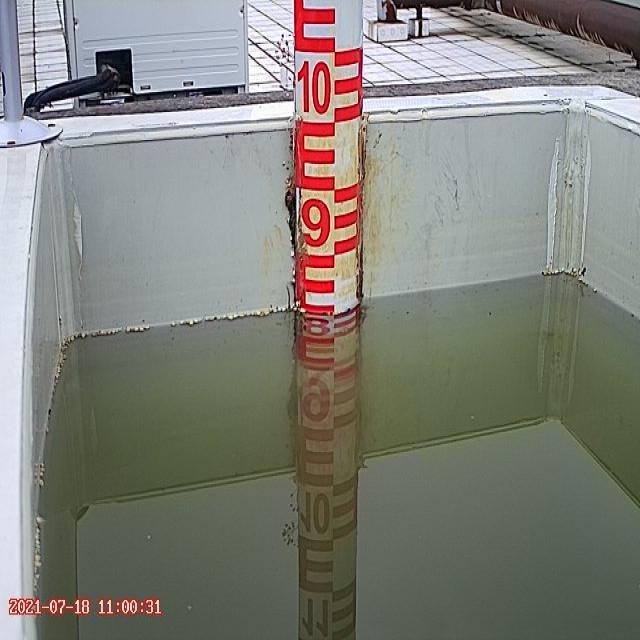ruler: (284, 0, 376, 331)
value: (295, 52, 338, 126), (294, 189, 336, 255)
